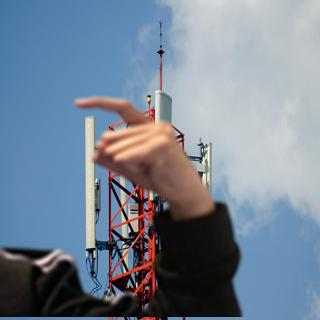WHY: (70, 89, 212, 213)
